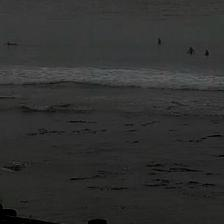surfer: (187, 46, 195, 54), (6, 42, 18, 46), (204, 50, 209, 56), (157, 38, 162, 44)
